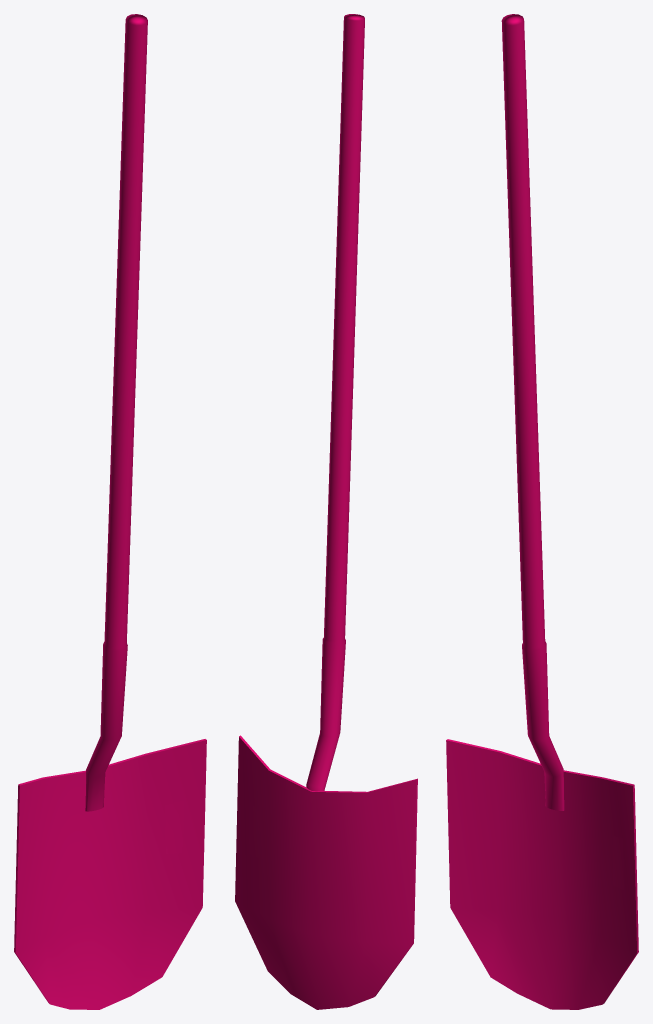
The model's file is Shovel_01_Lod0.fbx.
The picture shows the model from 3 angles, left to right: view 1: azimuth 30°, elevation 25°; view 2: azimuth 150°, elevation 25°; view 3: azimuth 330°, elevation 25°; orthographic projection. The views are drawn at different scales.
Visible parts, largest first — view 1: Shovel_01_Lod0; view 2: Shovel_01_Lod0; view 3: Shovel_01_Lod0.
Boxes of the visible parts, box(x1,y1,x2,y2) form: Shovel_01_Lod0: box(14, 14, 206, 1009); Shovel_01_Lod0: box(235, 14, 417, 1009); Shovel_01_Lod0: box(446, 14, 638, 1009).
Size of the model in its own units: 37.17 by 194 by 18.12.
